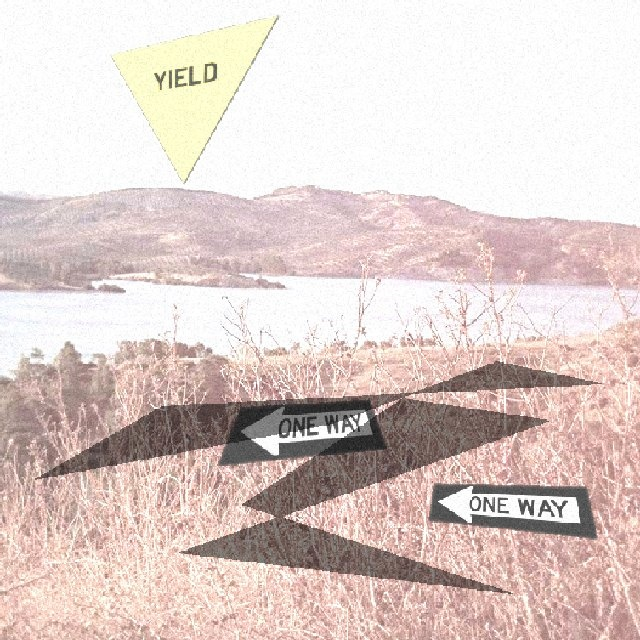ONE_WAY_ left: (215, 398, 386, 465), (426, 482, 597, 538)
YIELD: (108, 13, 279, 184)
